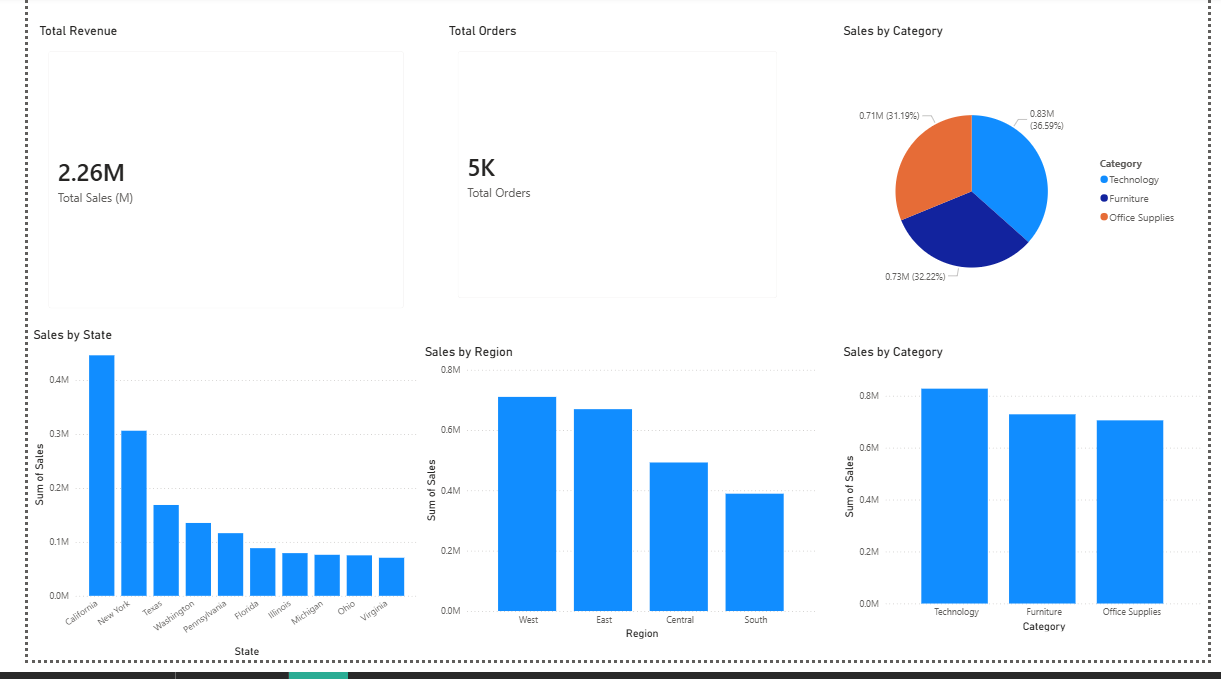

Layout of this report page (visuals, bound fields, positions):
{"tool":"powerbi","page":{"name":"Page 1","canvas":[1600,900],"ordinal":0},"visuals":[{"type":"cardVisual","title":"Total Revenue","fields":{"Data":["cleaned_data.Total Sales (M)"]},"box":[10.2,36.6,516.4,404.6],"z":0},{"type":"clusteredColumnChart","title":" Sales by Region","fields":{"Category":["cleaned_data.Region"],"Y":["Sum(cleaned_data.Sales)"]},"box":[532.7,471.7,540.8,404.6],"z":1000},{"type":"clusteredColumnChart","title":"Sales by Category","fields":{"Category":["cleaned_data.Category"],"Y":["Sum(cleaned_data.Sales)"]},"box":[1100,471.7,496.1,394.4],"z":2000},{"type":"clusteredColumnChart","title":"Sales by State","fields":{"Category":["cleaned_data.State"],"Y":["Sum(cleaned_data.Sales)"]},"box":[2,449.3,530.7,451.4],"z":3000},{"type":"pieChart","title":"Sales by Category","fields":{"Category":["cleaned_data.Category"],"Y":["Sum(cleaned_data.Sales)"]},"box":[1100,36.6,467.6,435.1],"z":4000},{"type":"cardVisual","title":"Total Orders","fields":{"Data":["cleaned_data.Total Orders"]},"box":[565.2,36.6,467.6,390.4],"z":5000}]}

Visuals, with their boxes in screenshot pixels (x1, y1, x2, y2), scaled from the page's 1600x900 canvas onto the 1221x679 screenshot:
"Total Revenue" cardVisual: x1=8 y1=28 x2=402 y2=333
" Sales by Region" clusteredColumnChart: x1=407 y1=356 x2=819 y2=661
"Sales by Category" clusteredColumnChart: x1=839 y1=356 x2=1218 y2=653
"Sales by State" clusteredColumnChart: x1=2 y1=339 x2=407 y2=678
"Sales by Category" pieChart: x1=839 y1=28 x2=1196 y2=356
"Total Orders" cardVisual: x1=431 y1=28 x2=788 y2=322
